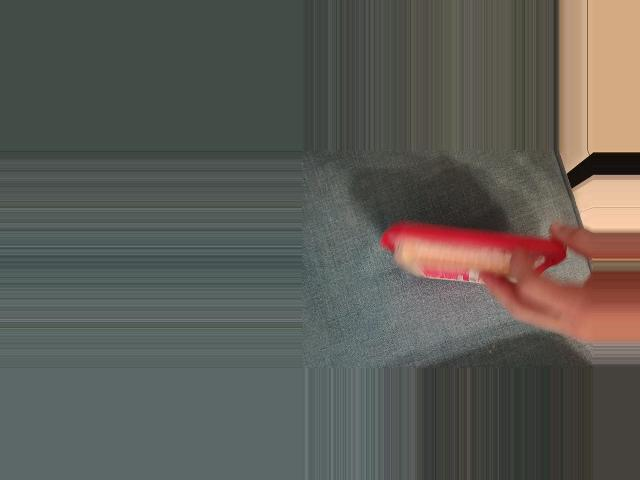cheese: (382, 223, 567, 293)
